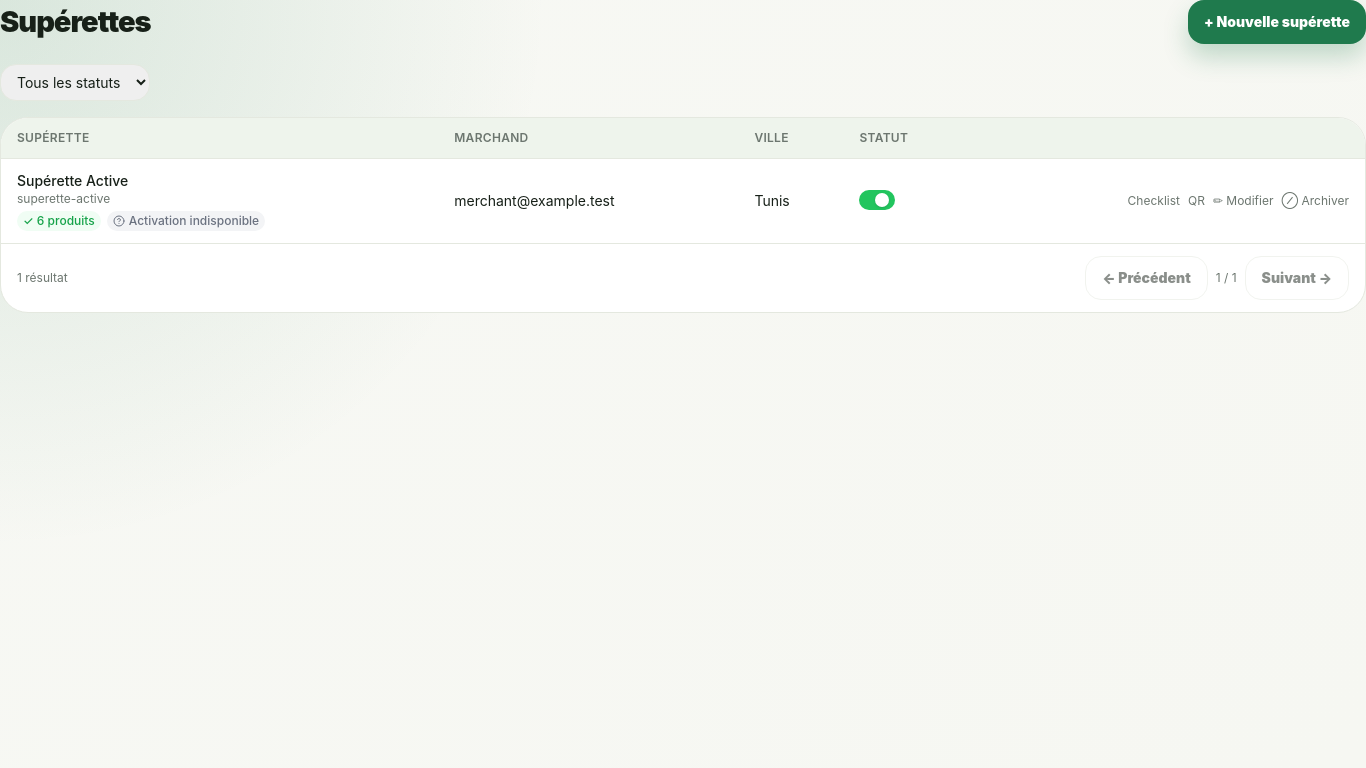
Test: SuperettesPage › affiche l'erreur du détail checklist quand l'API échoue
expect the text "Activation indisponible" is shown: met, box [107,211,265,231]
Click the button with aria-label "Voir la checklist activation".
click(1154, 201)  # box [1128,193,1180,209]
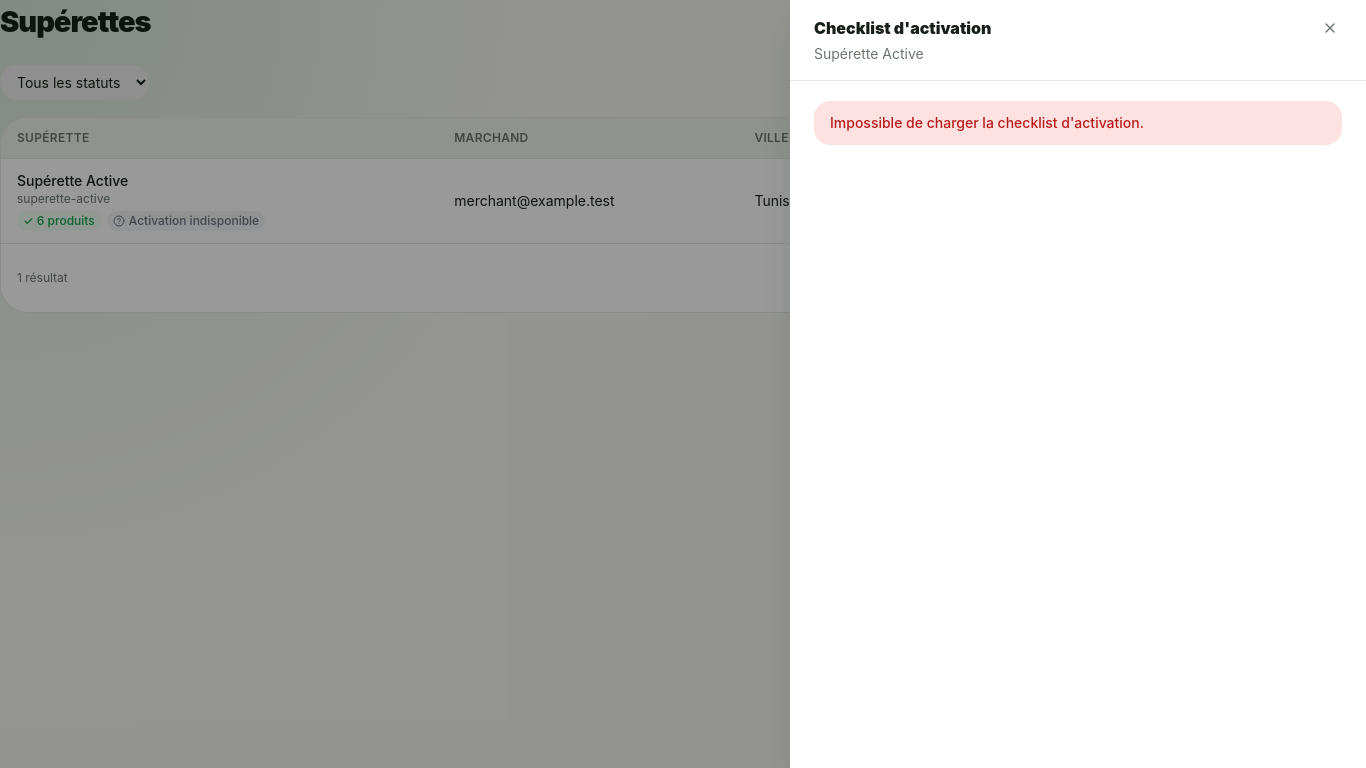
expect the text "Impossible de charger la checklist d'activation." is shown: met, box [814,101,1342,145]
